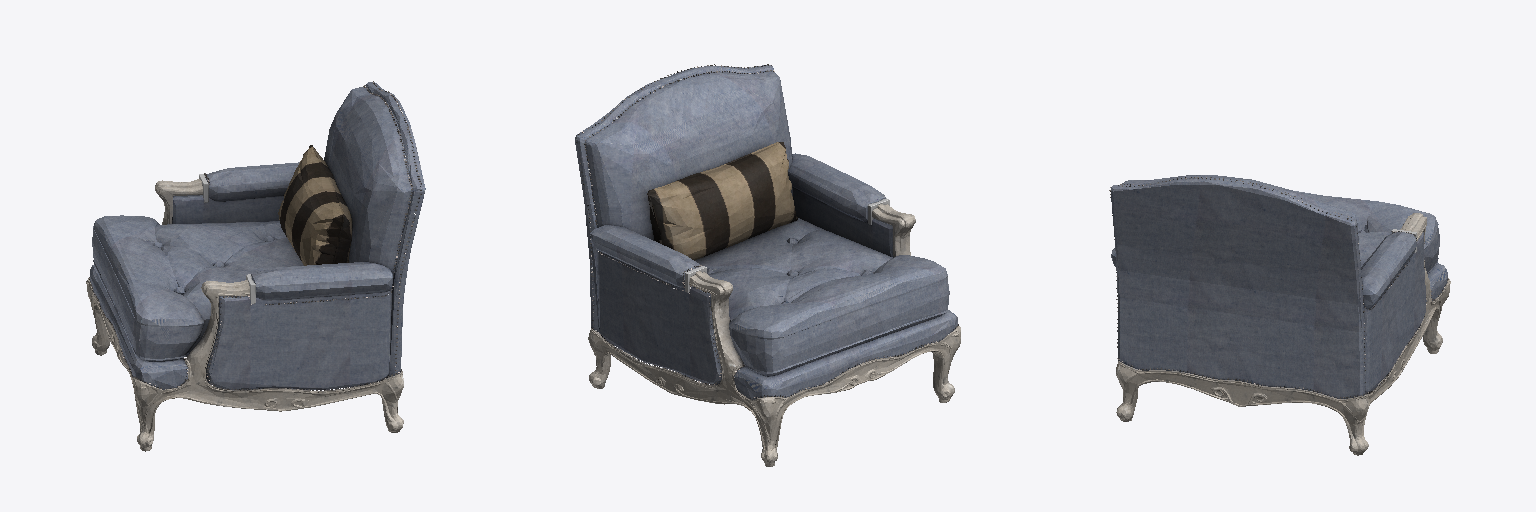
3 renders of one model, left to right at view 1: azimuth 30°, elevation 25°; view 2: azimuth 150°, elevation 25°; view 3: azimuth 270°, elevation 25°, orthographic.
Visible parts, largest first — view 1: solid_001_wire; view 2: solid_001_wire; view 3: solid_001_wire.
Boxes of the visible parts, x1=… form: solid_001_wire: x1=86, y1=81, x2=425, y2=451; solid_001_wire: x1=575, y1=64, x2=960, y2=466; solid_001_wire: x1=1109, y1=175, x2=1450, y2=455.
Bounding box in the file's own units: 1.07 × 0.8782 × 1.01.
Materials: 1 (1 with a texture image).